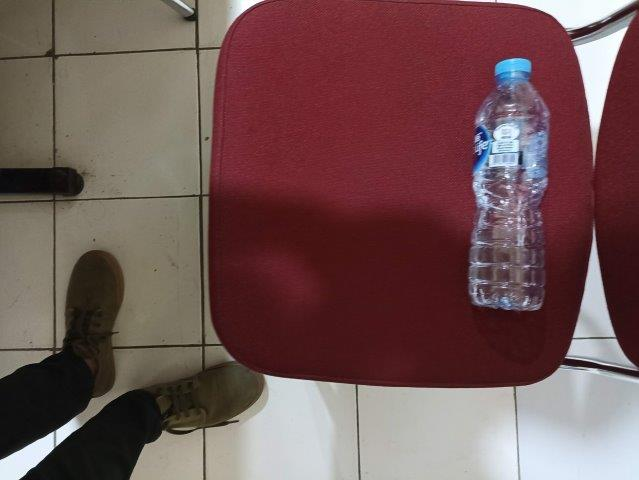botolplastik: (464, 56, 547, 313)
